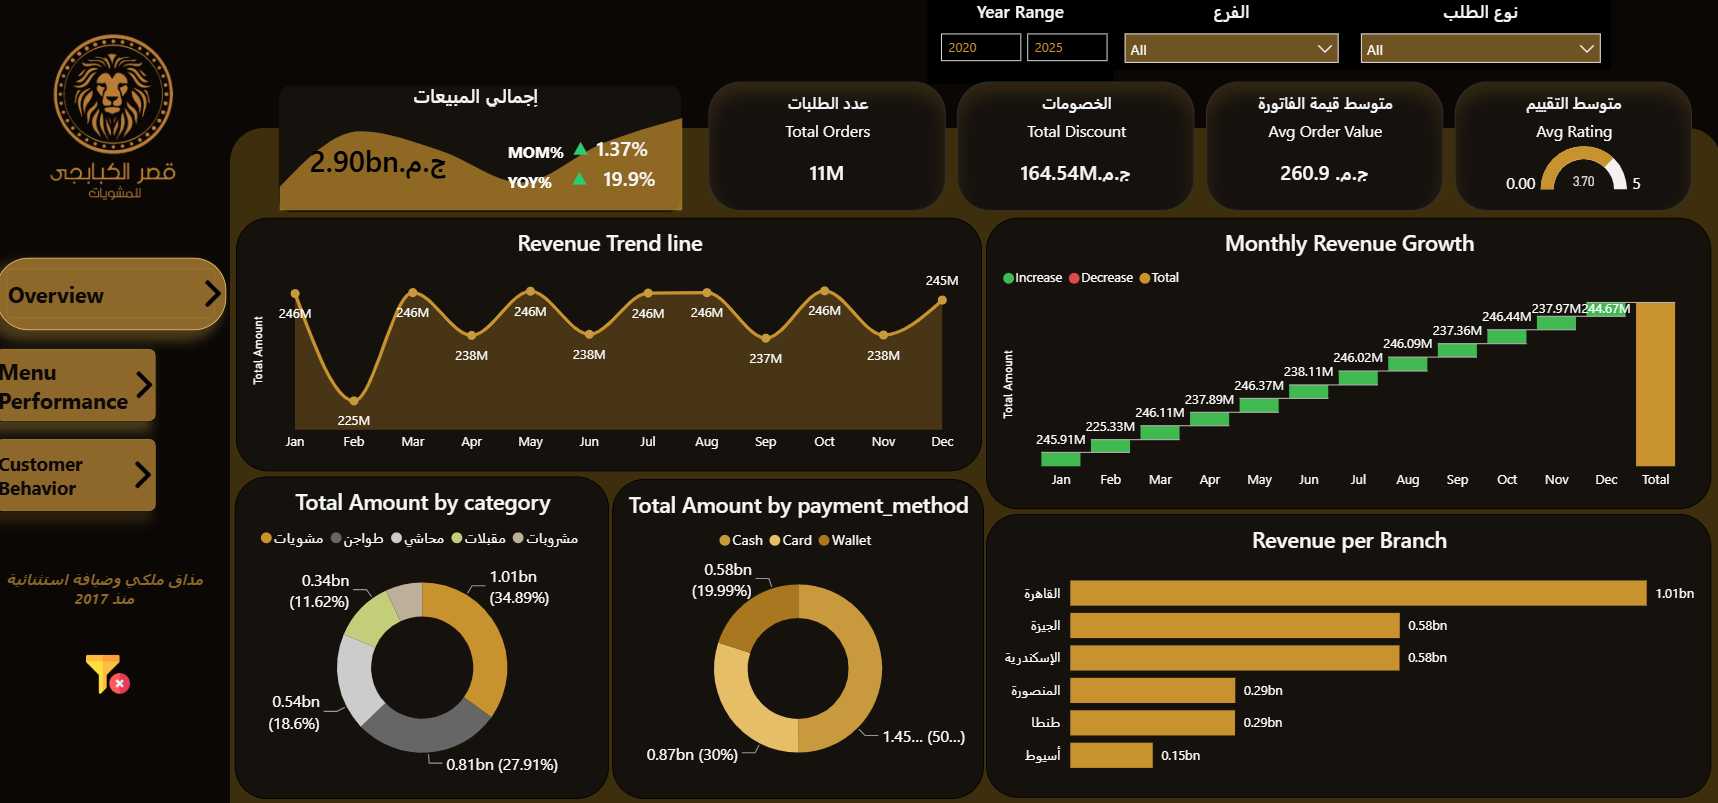

The dashboard page shown, as its layout file describes it:
{"tool":"powerbi","page":{"name":"Executive Overview","canvas":[1600,750],"ordinal":0},"visuals":[{"type":"shape","box":[216.5,119.9,1383.8,630.5],"z":0},{"type":"cardVisual","title":"إجمالي المبيعات      ","fields":{"Data":["Table_Measures.Total Revenue"]},"box":[236.9,78.8,250,120],"z":1000},{"type":"image","box":[0,0,216.5,219.4],"z":2000},{"type":"slicer","title":"نوع الطلب","fields":{"Values":["restaurant_unified.order_type"]},"box":[928,0,243.2,65.3],"z":3000},{"type":"cardVisual","title":"عدد الطلبات    ","fields":{"Data":["Table_Measures.Total Orders"]},"box":[515.3,78.8,250,120],"z":4000},{"type":"cardVisual","title":"متوسط قيمة الفاتورة    ","fields":{"Data":["Table_Measures.Avg Order Value"]},"box":[793.6,78.8,250,120],"z":5000},{"type":"gauge","title":"متوسط التقييم    ","fields":{"MaxValue":["Max(restaurant_unified.rating)"],"Y":["Table_Measures.Avg Rating"]},"box":[1072,78.8,250,120],"z":6000},{"type":"waterfallChart","title":"Monthly Revenue Growth","fields":{"Category":["restaurant_unified.Month.1"],"Y":["Table_Measures.Total Amount"]},"box":[918.6,203.5,673,270.3],"z":7000},{"type":"cardVisual","title":"معدل التغيير الشهري","fields":{"Data":["Table_Measures.MoM Growth %"]},"box":[1350,78.8,250,120],"z":8000},{"type":"areaChart","title":"Revenue Trend line","fields":{"Category":["restaurant_unified.YEAR","restaurant_unified.Month.1"],"Y":["Table_Measures.Total Amount"]},"box":[222.4,203.5,691.9,235.5],"z":9000},{"type":"slicer","title":"Year Range","fields":{"Values":["restaurant_unified.YEAR"]},"box":[486.4,0,222.7,78.1],"z":10000},{"type":"clusteredBarChart","title":"Revenue per Branch","fields":{"Category":["restaurant_unified.branch"],"Y":["Table_Measures.Total Amount"]},"box":[918.6,478.2,673,263.1],"z":11000},{"type":"slicer","title":"الفرع","fields":{"Values":["restaurant_unified.branch"]},"box":[709.1,0,218.9,65.3],"z":12000},{"type":"donutChart","fields":{"Category":["restaurant_unified.category"],"Y":["Table_Measures.Total Amount"]},"box":[220.9,443.3,347.4,299.4],"z":13000},{"type":"donutChart","fields":{"Category":["restaurant_unified.payment_method"],"Y":["Table_Measures.Total Amount"]},"box":[571.2,444.8,344.5,293.6],"z":14000}]}

Visuals, with their boxes in screenshot pixels (x1, y1, x2, y2), scaled from the page's 1600x750 canvas onto the 1718x803 screenshot:
shape: <bbox>232, 128, 1717, 802</bbox>
"إجمالي المبيعات      " cardVisual: <bbox>254, 84, 523, 213</bbox>
image: <bbox>0, 0, 232, 235</bbox>
"نوع الطلب" slicer: <bbox>996, 0, 1258, 70</bbox>
"عدد الطلبات    " cardVisual: <bbox>553, 84, 822, 213</bbox>
"متوسط قيمة الفاتورة    " cardVisual: <bbox>852, 84, 1121, 213</bbox>
"متوسط التقييم    " gauge: <bbox>1151, 84, 1419, 213</bbox>
"Monthly Revenue Growth" waterfallChart: <bbox>986, 218, 1709, 507</bbox>
"معدل التغيير الشهري" cardVisual: <bbox>1450, 84, 1717, 213</bbox>
"Revenue Trend line" areaChart: <bbox>239, 218, 982, 470</bbox>
"Year Range" slicer: <bbox>522, 0, 761, 84</bbox>
"Revenue per Branch" clusteredBarChart: <bbox>986, 512, 1709, 794</bbox>
"الفرع" slicer: <bbox>761, 0, 996, 70</bbox>
donutChart - restaurant_unified.category x Table_Measures.Total Amount: <bbox>237, 475, 610, 795</bbox>
donutChart - restaurant_unified.payment_method x Table_Measures.Total Amount: <bbox>613, 476, 983, 791</bbox>
